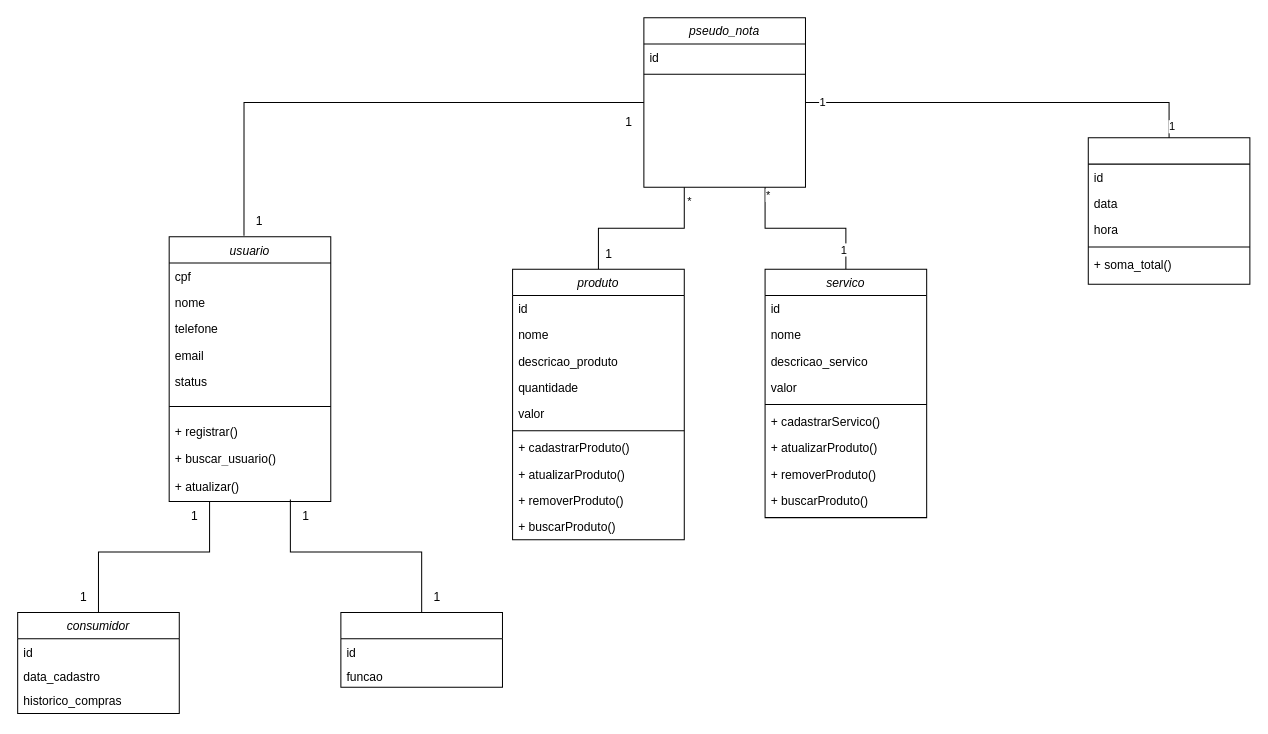
This 1268x734 diagram has some shape labels left out. The box of each missing label's shape, as (x1, y1, x2, y2) in pixels:
comanda: (1087, 137, 1250, 284)
funcionario: (340, 612, 502, 687)
